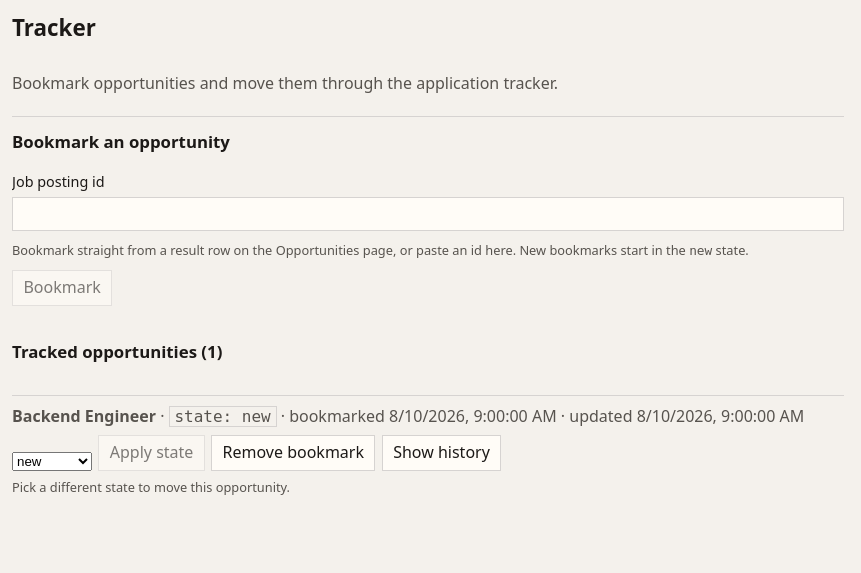
Scenario: TrackerPage › explains that removing a bookmark keeps the opportunity tracked
Click the button "Remove bookmark" at {"x": 293, "y": 453}, box 211,435 -> 375,471
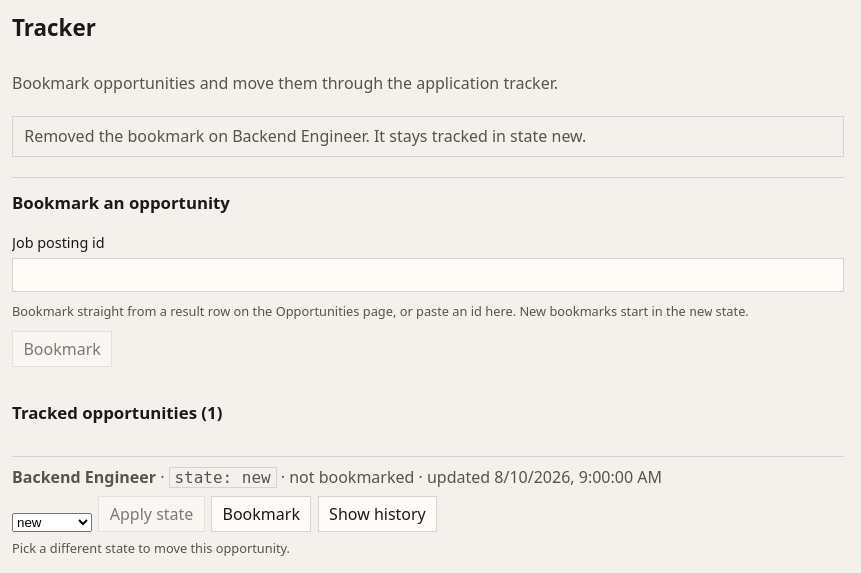
Expected: the message shows "stays tracked", 24,125 -> 586,147
Expected: the text "not bookmarked" is shown, 289,466 -> 414,488
